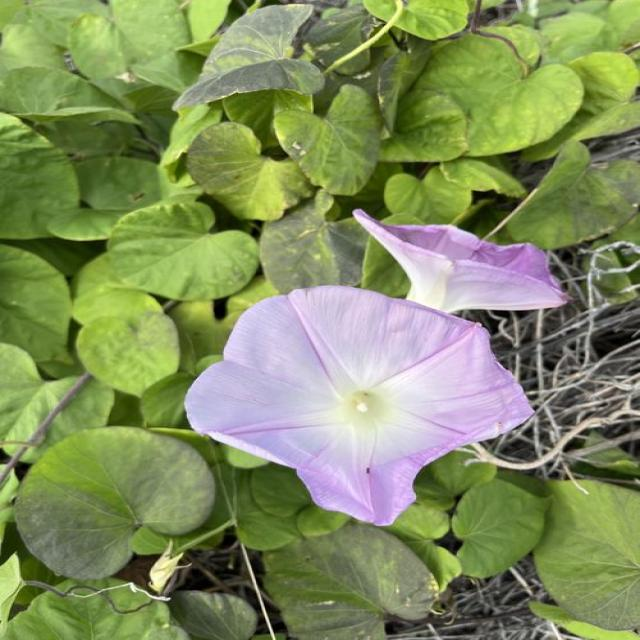ipomoea: (179, 282, 539, 529), (347, 206, 573, 319)
